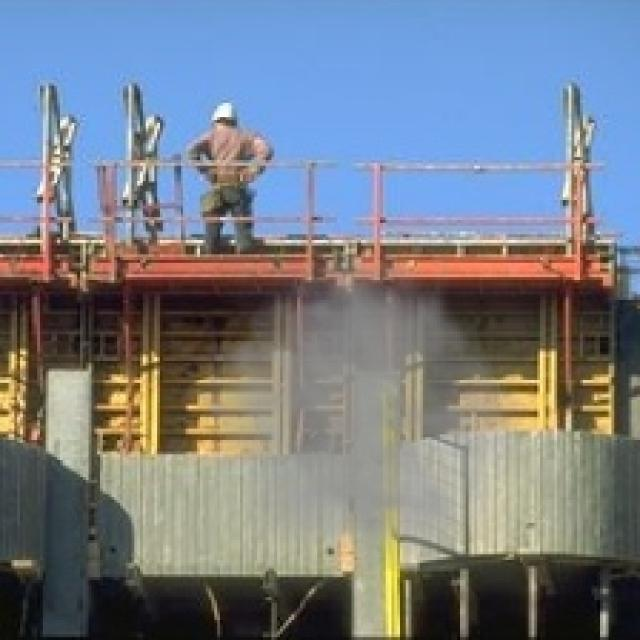smoke: (177, 214, 543, 572)
